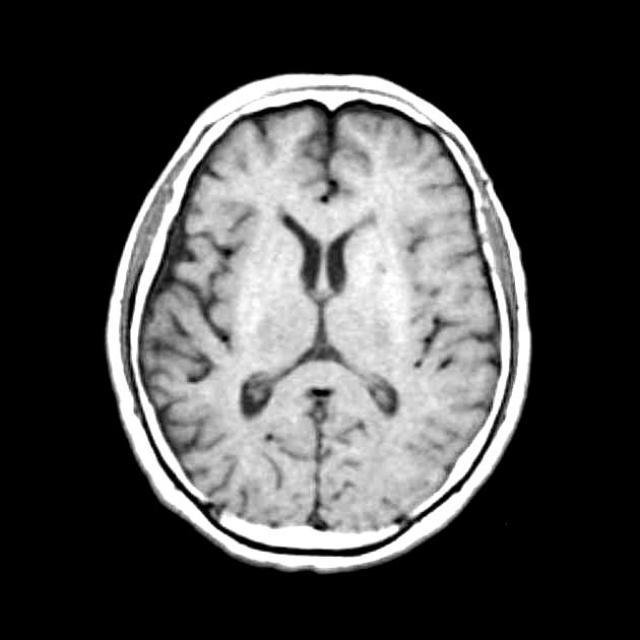notumor: (105, 77, 532, 577)
